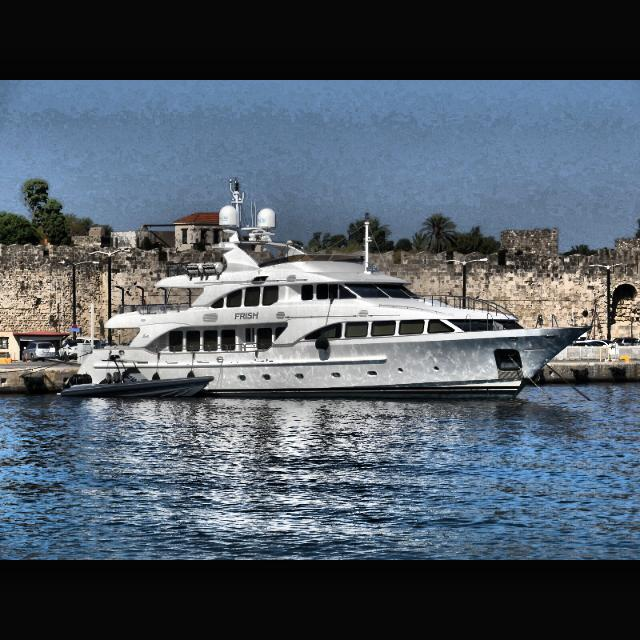yacht: (70, 203, 594, 403)
